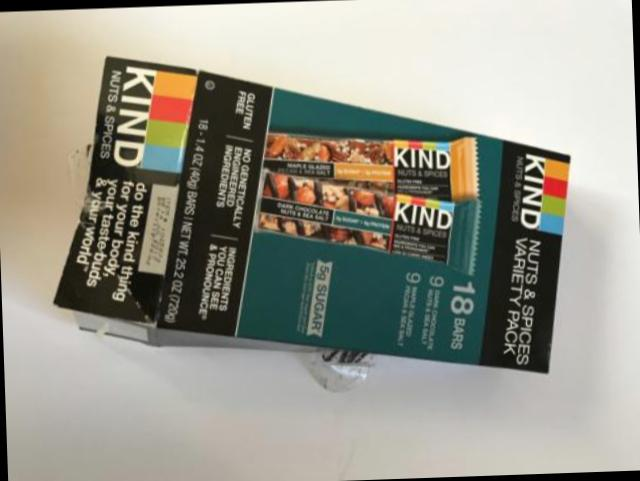cardboard paper: (57, 60, 571, 373)
